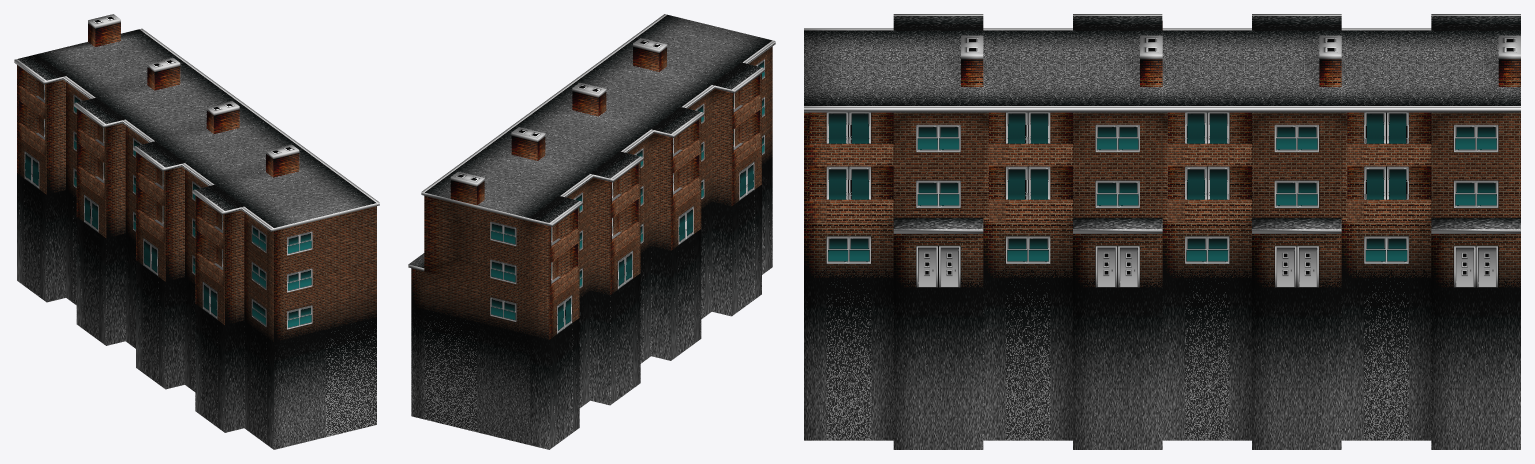
File: maisonet_mod3_3a.fbx
3 renders of one model, left to right at view 1: azimuth 30°, elevation 25°; view 2: azimuth 150°, elevation 25°; view 3: azimuth 270°, elevation 25°, orthographic. The views are drawn at different scales.
Visible parts, largest first — view 1: maisonet_mod3_3a; view 2: maisonet_mod3_3a; view 3: maisonet_mod3_3a.
Part boxes in pixels (<box>): maisonet_mod3_3a: <box>14,14,379,449</box>; maisonet_mod3_3a: <box>408,14,775,449</box>; maisonet_mod3_3a: <box>804,14,1520,449</box>.
Bounding box in the file's own units: 1231 × 2033 × 3600.
